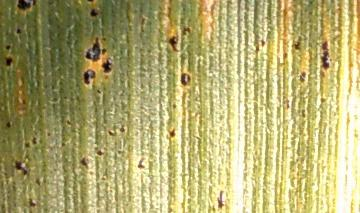tarspot: (83, 35, 101, 64), (318, 38, 332, 71), (14, 161, 30, 180), (81, 68, 97, 86), (16, 1, 37, 14), (100, 58, 113, 75), (215, 188, 225, 210), (168, 34, 179, 54), (180, 70, 191, 88), (87, 6, 99, 20), (79, 156, 91, 170), (292, 35, 303, 50), (137, 156, 146, 171), (26, 196, 37, 208), (4, 55, 14, 68), (298, 70, 307, 83), (168, 126, 176, 139), (64, 117, 74, 127), (182, 25, 193, 34), (107, 129, 117, 138), (95, 148, 105, 157), (49, 95, 59, 104), (34, 176, 42, 187), (23, 140, 31, 150), (285, 97, 291, 110), (59, 140, 67, 149), (31, 136, 38, 146), (300, 107, 306, 118), (94, 86, 102, 94), (259, 37, 266, 46), (118, 125, 125, 134), (5, 120, 12, 129), (44, 131, 53, 138), (100, 47, 107, 55), (282, 50, 289, 58), (15, 26, 21, 35), (171, 102, 177, 109), (4, 44, 11, 50), (84, 1, 97, 4), (254, 45, 260, 51)
